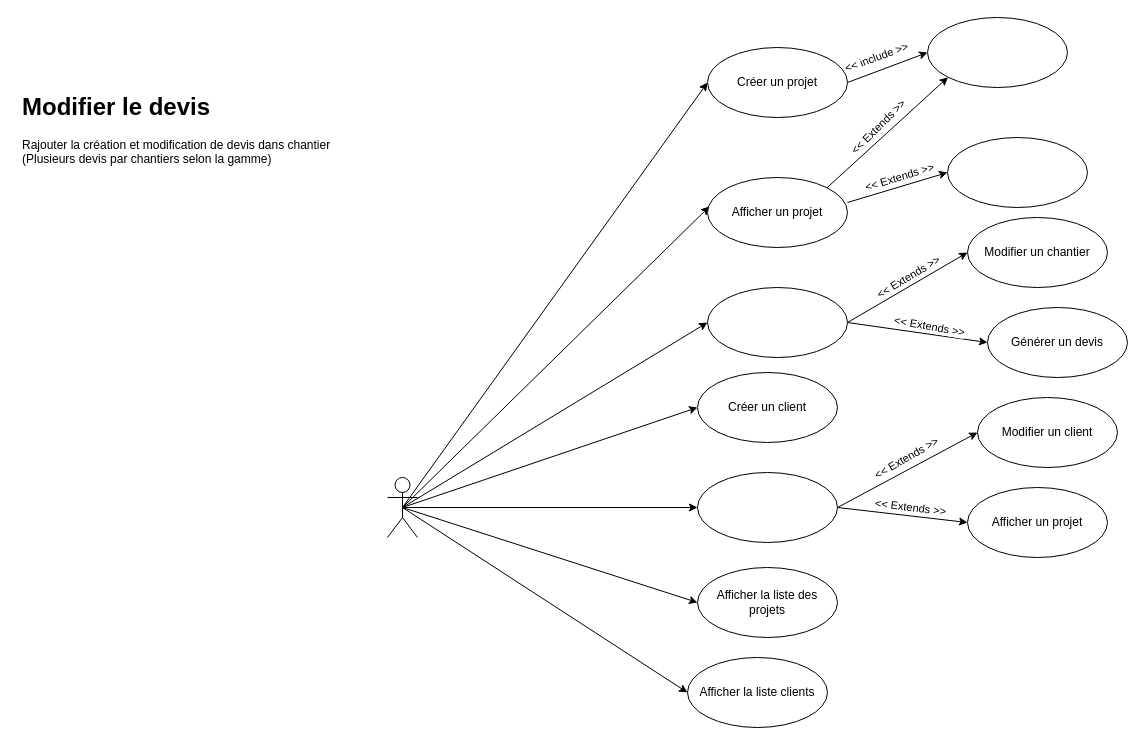
Some shapes in this 1145 by 745 pixel diagram are drawn without their labels. The shapes that lost their labels are listed below. From the top down, each one's centre as x and y in pixels, then its label:
At (x=997, y=52): "Créer un chantier".
At (x=1017, y=172): "Editer un projet".
At (x=777, y=322): "Afficher un chantier".
At (x=402, y=507): "Commercial".
At (x=767, y=507): "Afficher un client".
